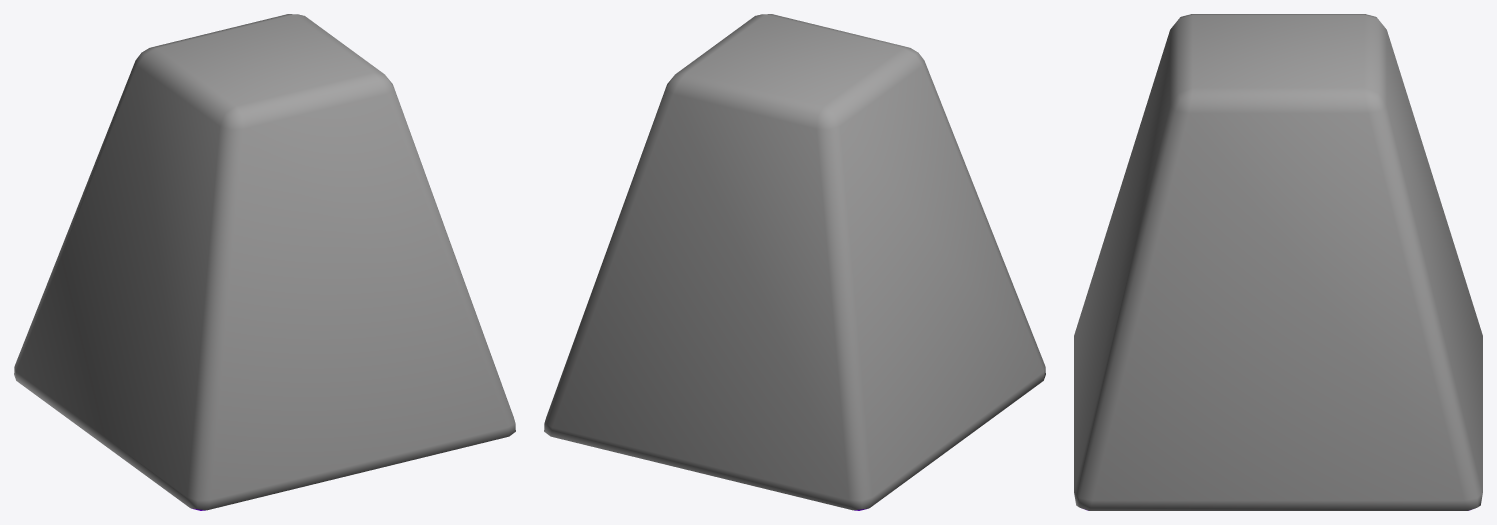
File: Barricade_Concrete_11.fbx
The picture shows the model from 3 angles, left to right: view 1: azimuth 30°, elevation 25°; view 2: azimuth 150°, elevation 25°; view 3: azimuth 270°, elevation 25°; orthographic projection. The views are drawn at different scales.
Visible parts, largest first — view 1: Obstacle_Barricade_Concrete_11; view 2: Obstacle_Barricade_Concrete_11; view 3: Obstacle_Barricade_Concrete_11.
Boxes of the visible parts, x1,y1,x2,y2 form: Obstacle_Barricade_Concrete_11: (14,14,515,510); Obstacle_Barricade_Concrete_11: (544,14,1045,510); Obstacle_Barricade_Concrete_11: (1074,14,1482,510).
Size of the model in its own units: 67.2 by 68.67 by 67.2.
1 material, 1 textured.
